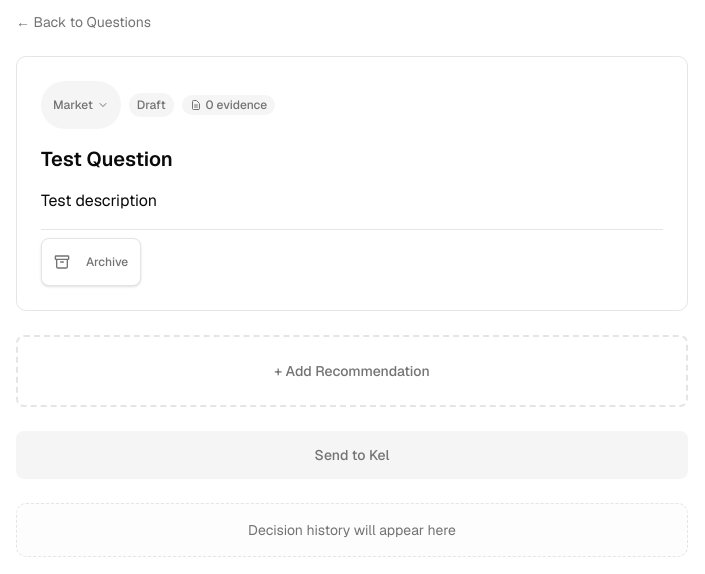
Scenario: QuestionDetailClient › category reassignment › opens dropdown and shows all categories
Click the button with test id "category-badge" at (81, 105), box [41,81,121,129]
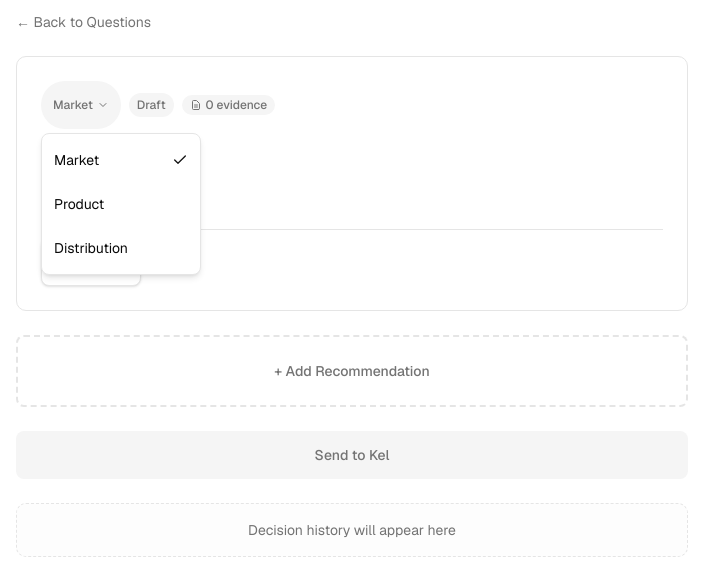
Check: the menu with test id "category-dropdown" is shown, box [41,133,201,275]
Check: the menu item with test id "category-option-market" is shown, box [54,151,188,169]
Check: the menu item with test id "category-option-product" is shown, box [54,195,104,213]
